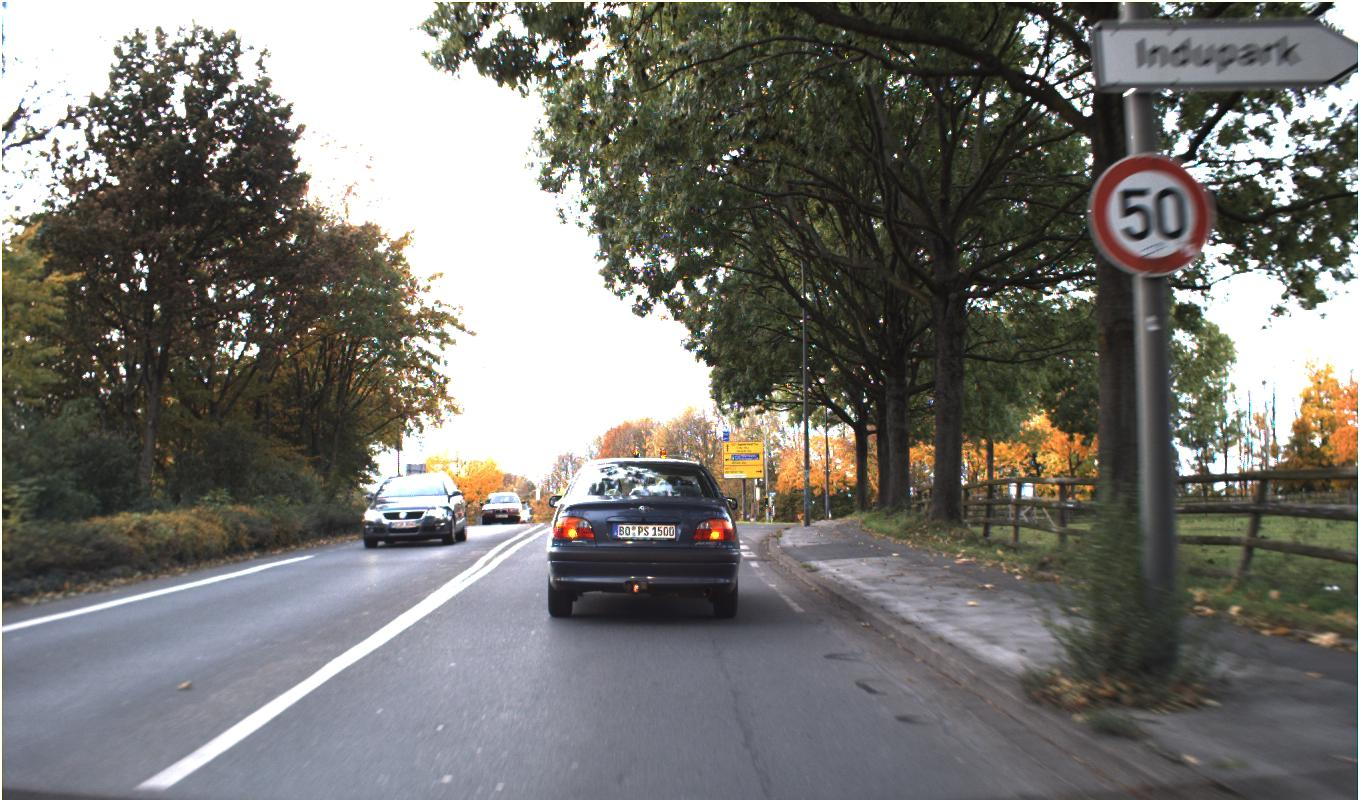prohibitory: (1089, 153, 1212, 276)
